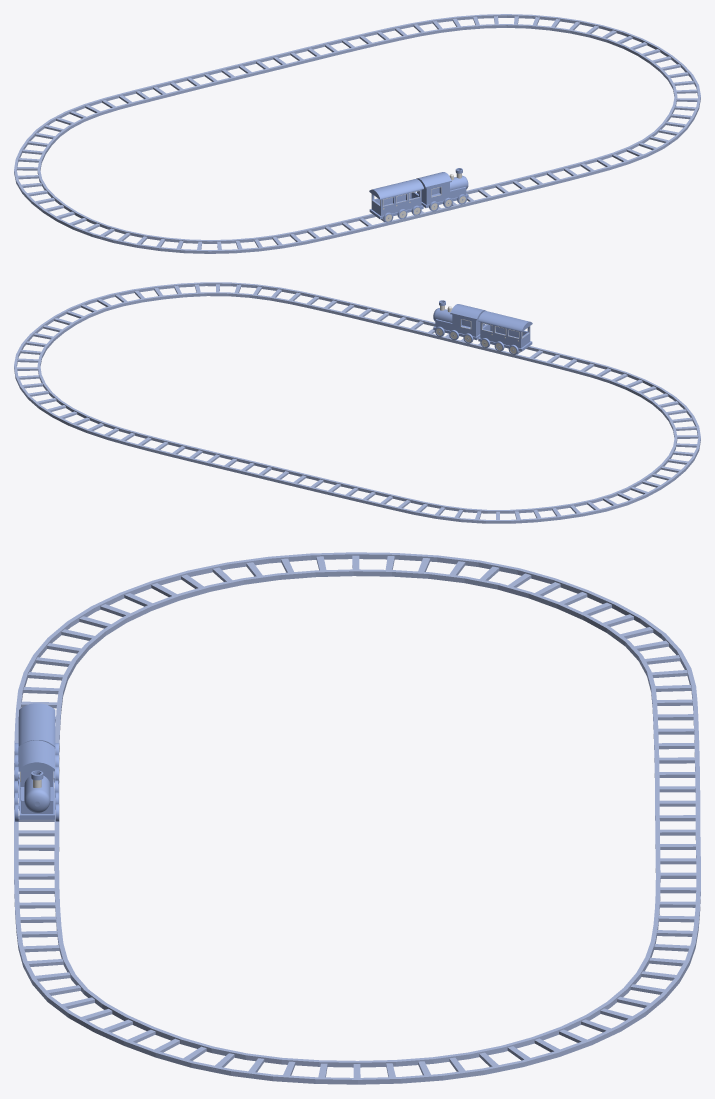
File: Train.glb
3 views of the same model, one above another, from view 1: azimuth 30°, elevation 25°; view 2: azimuth 150°, elevation 25°; view 3: azimuth 270°, elevation 25° (orthographic). The views are drawn at different scales.
Parts seen in each view (by area): view 1: Rail, Train02, Train01; view 2: Rail, Train02, Train01; view 3: Rail, Train01, Train02.
Boxes of the visible parts, x1,y1,x2,y2 form: Rail: [14, 14, 700, 253]; Train02: [369, 179, 423, 222]; Train01: [416, 168, 468, 211]; Rail: [14, 282, 700, 523]; Train02: [478, 311, 532, 354]; Train01: [433, 300, 485, 343]; Rail: [14, 552, 700, 1084]; Train01: [14, 740, 59, 821]; Train02: [14, 703, 59, 783].
Bounding box in the file's own units: 8.47 × 0.4551 × 4.66.
